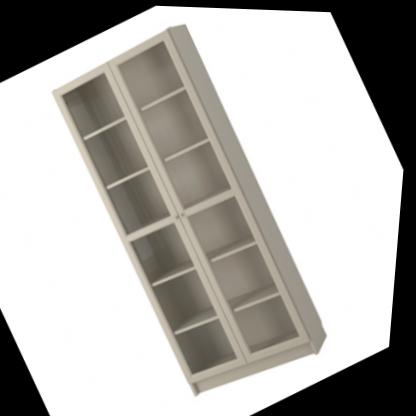Cabinet: (23, 7, 367, 416)
